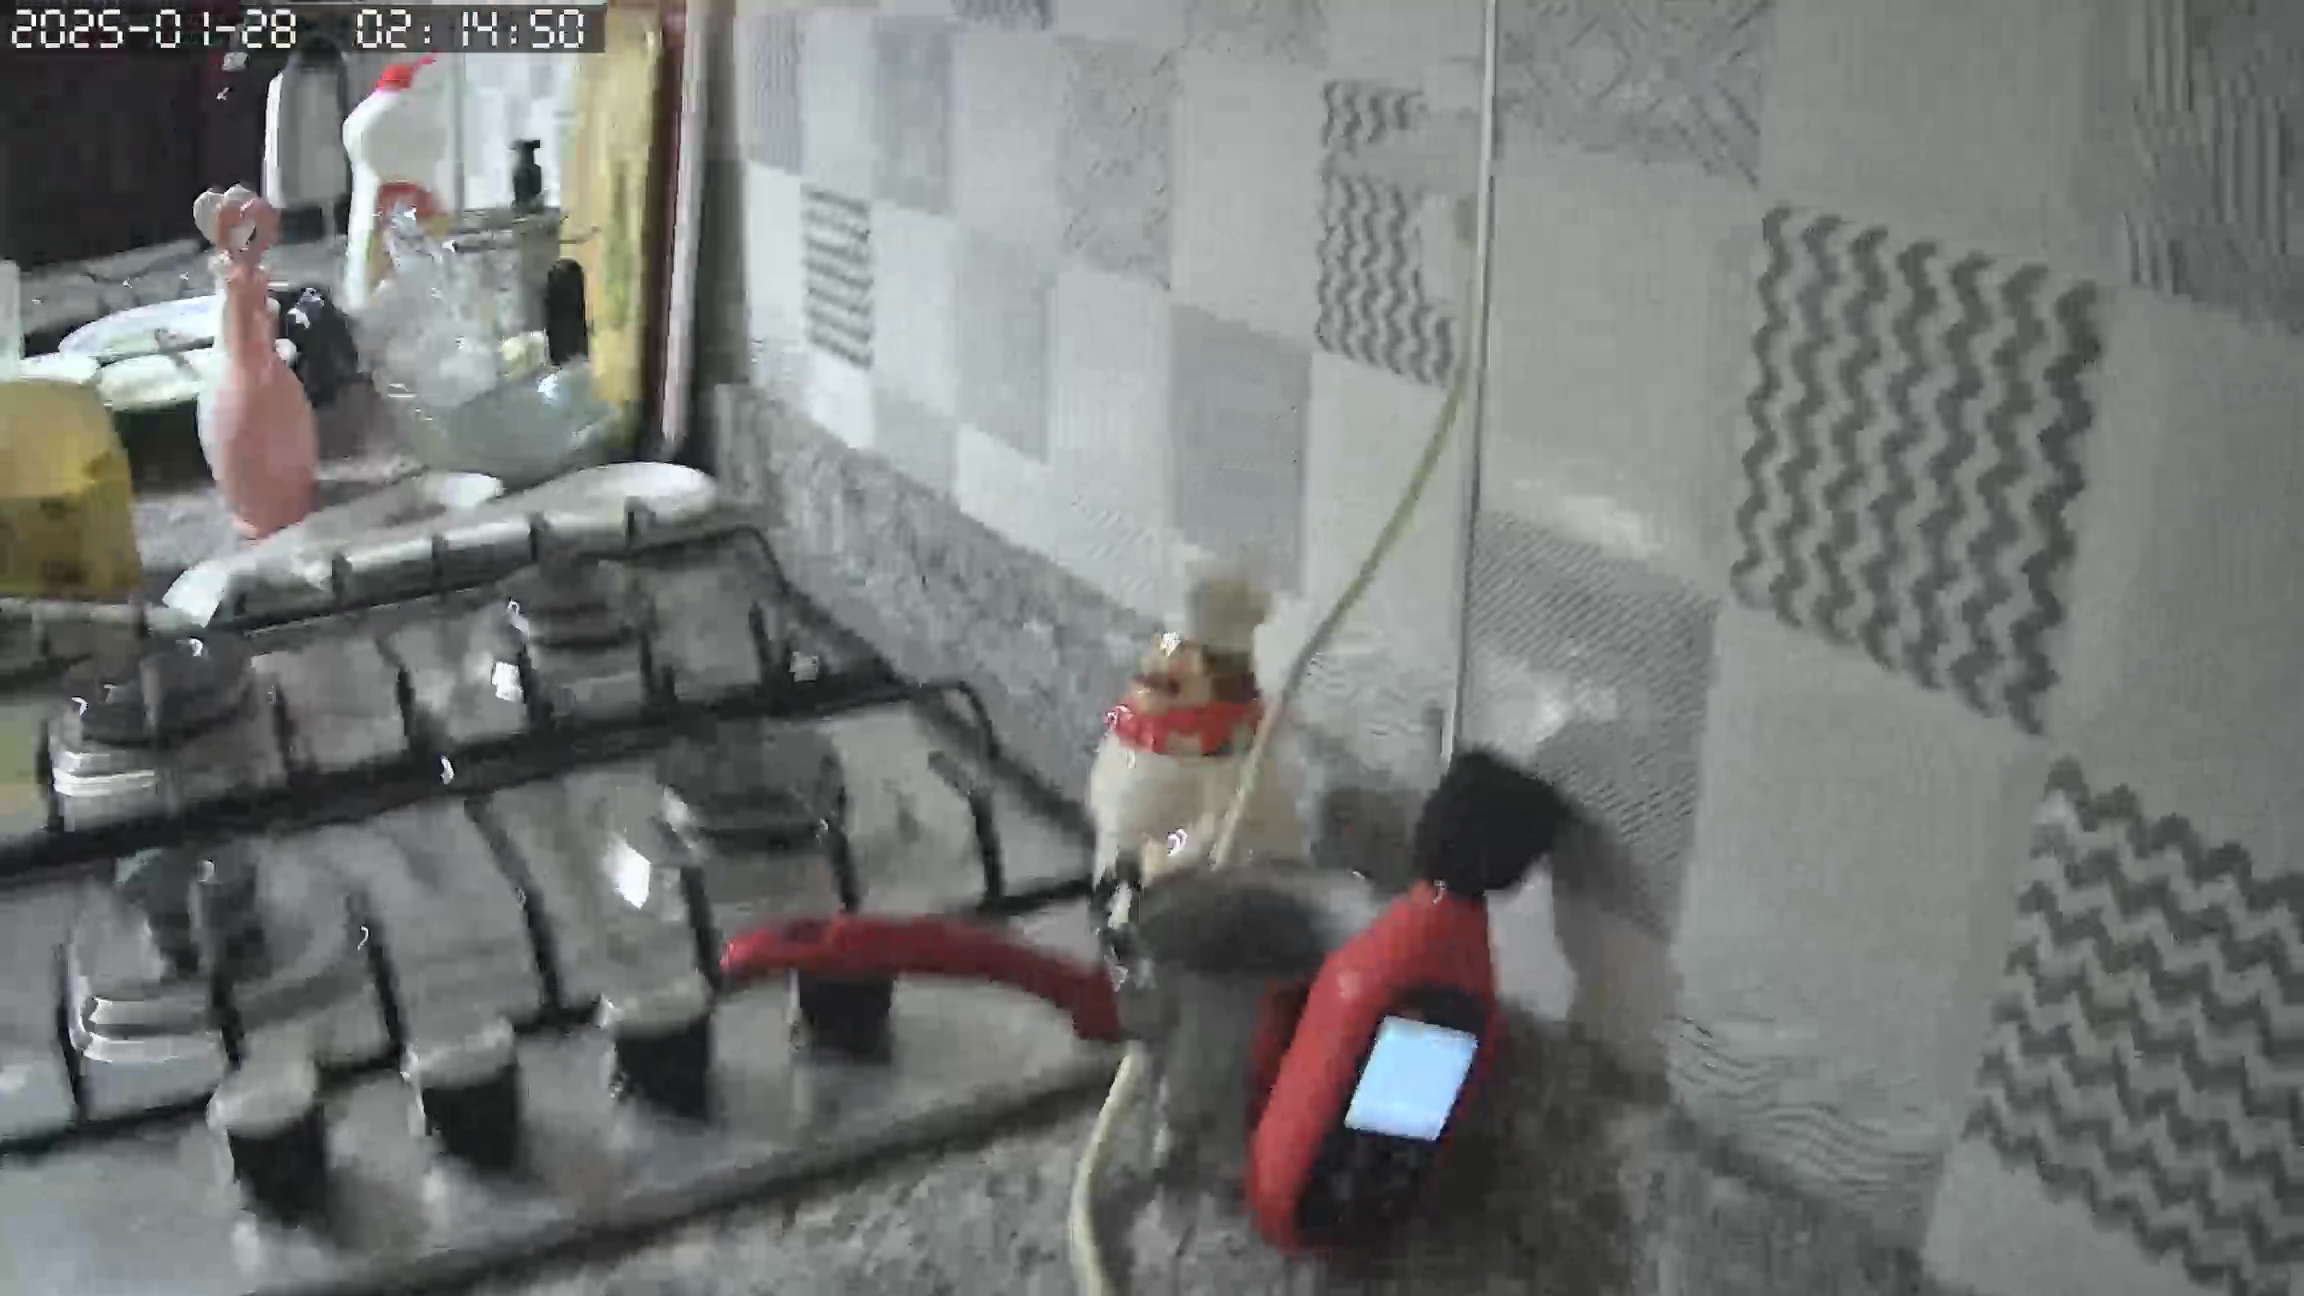screen: (1348, 1014, 1478, 1147)
